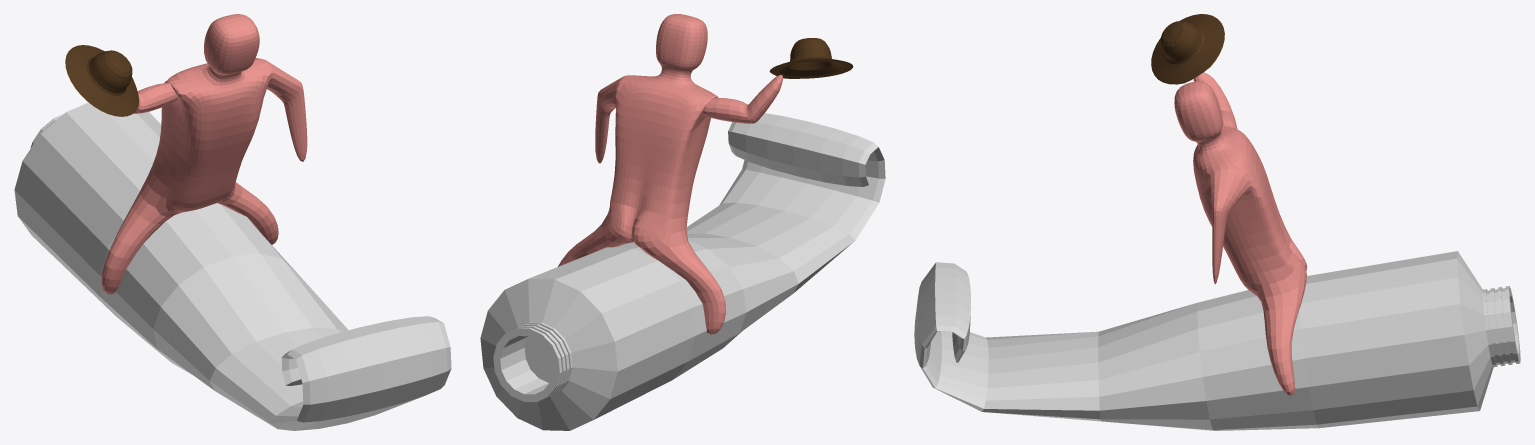
Rendered from player.glb.
3 renders of one model, left to right at view 1: azimuth 30°, elevation 25°; view 2: azimuth 150°, elevation 25°; view 3: azimuth 270°, elevation 25°, orthographic. The views are drawn at different scales.
Parts seen in each view (by area): view 1: Cylinder, Cube, Cylinder.001; view 2: Cylinder, Cube, Cylinder.001; view 3: Cylinder, Cube, Cylinder.001.
Part boxes in pixels (bbox=[...]): Cylinder: bbox=[14, 102, 451, 430]; Cube: bbox=[101, 14, 307, 294]; Cylinder.001: bbox=[65, 45, 177, 116]; Cylinder: bbox=[480, 113, 885, 430]; Cube: bbox=[558, 14, 725, 334]; Cylinder.001: bbox=[703, 38, 853, 123]; Cylinder: bbox=[914, 251, 1520, 430]; Cube: bbox=[1174, 81, 1307, 395]; Cylinder.001: bbox=[1151, 14, 1237, 128].
Size of the model in its own units: 3.57 by 4.62 by 7.5.
